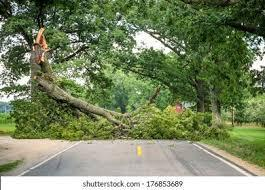Downstairs: (11, 28, 142, 140)
